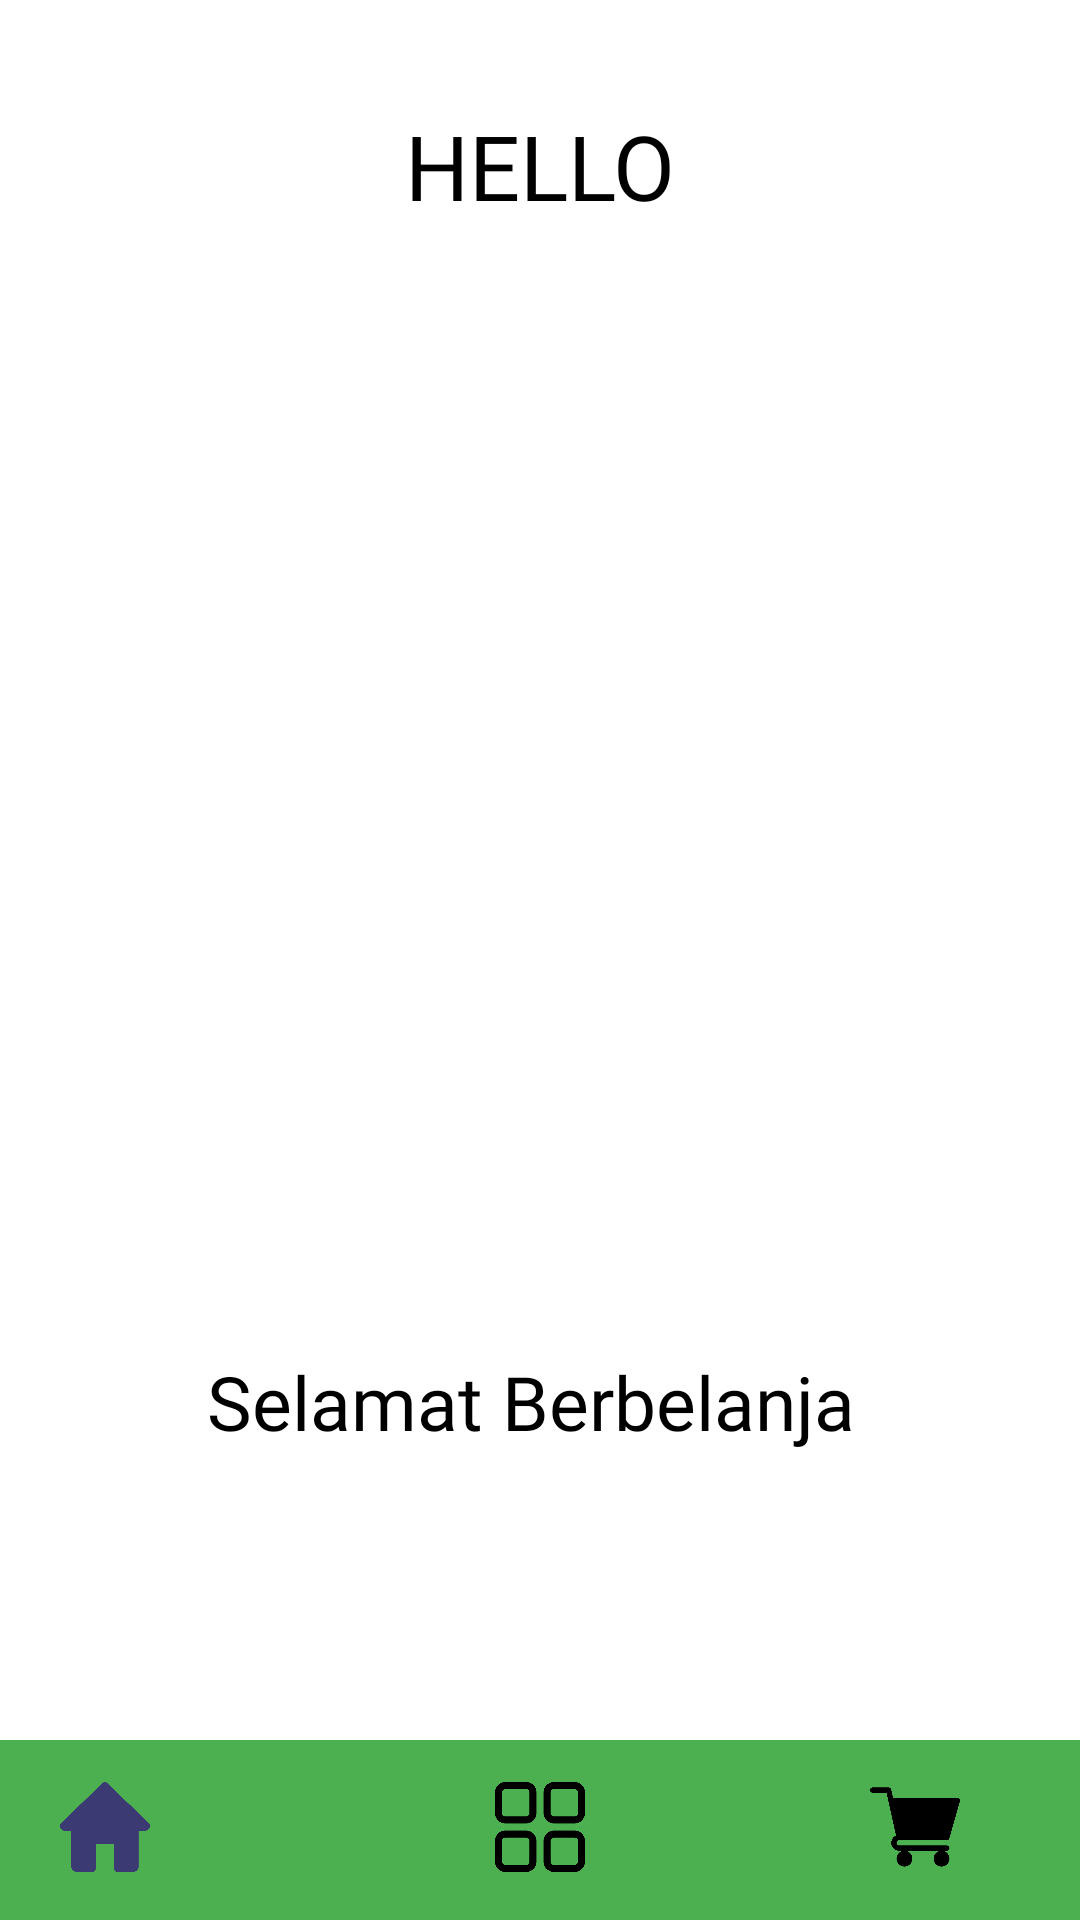

Icons on this 1080×1920 Android screen, each with the point to tap as [x,y]:
cart: [915,1827]
homee: [105,1827]
menu: [540,1827]
